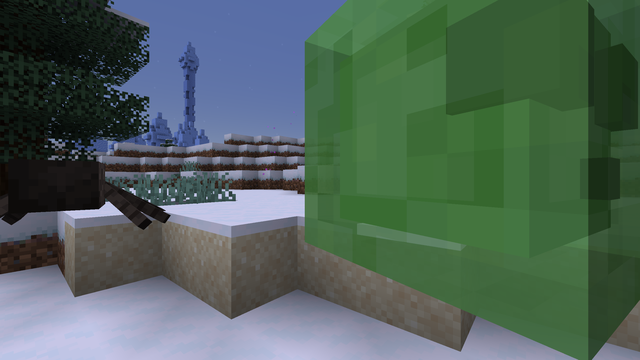araignees: (30, 151, 155, 241)
slimes: (290, 1, 627, 323)
